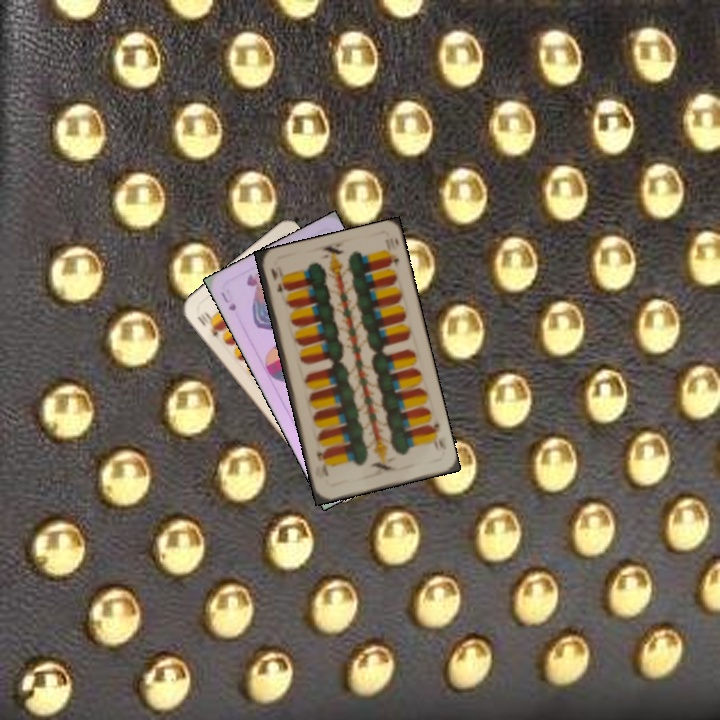E10: (193, 309, 222, 339), (424, 419, 448, 453), (267, 264, 287, 296)
SU: (217, 285, 239, 314)
